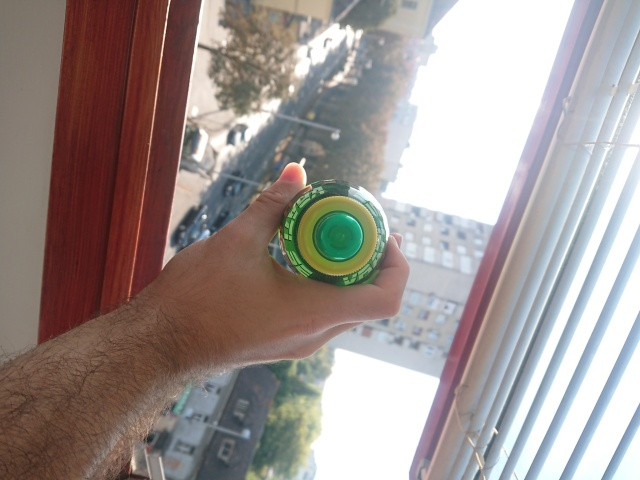Vindi Iso Sport Lemon-Grapefruit 500mL: (276, 176, 393, 290)
